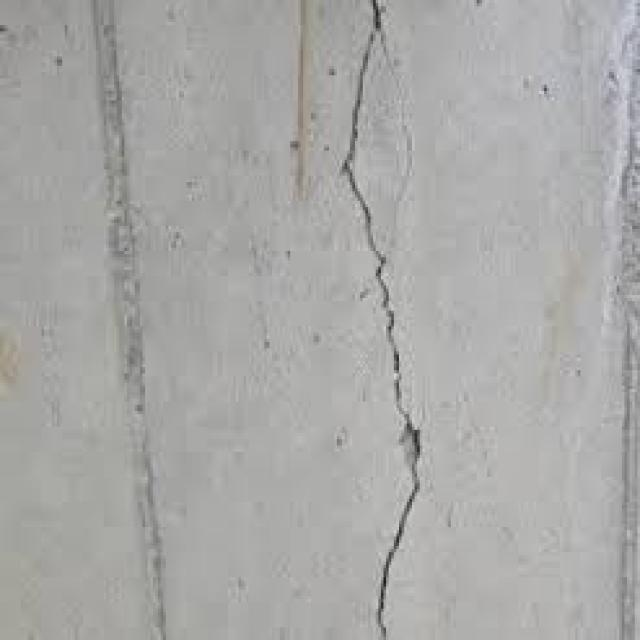Crack: (337, 0, 420, 637)
